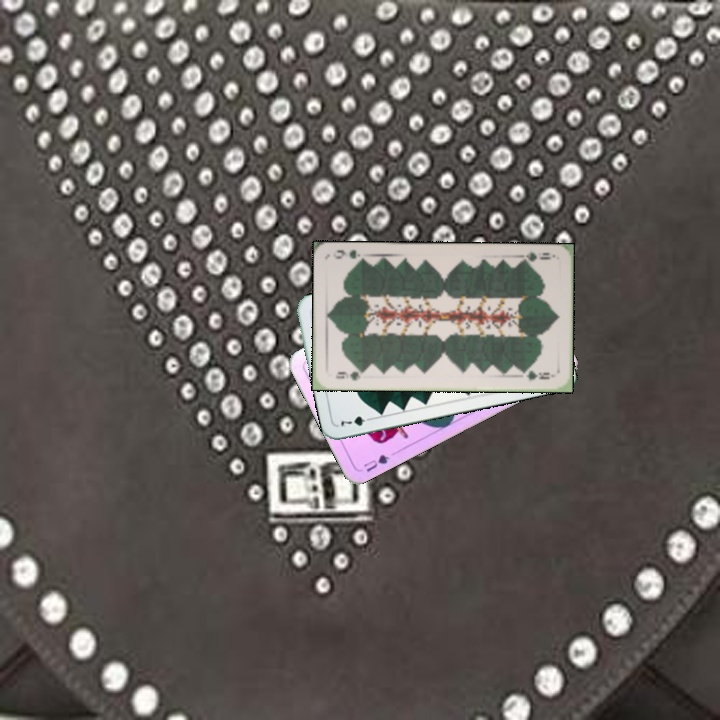G7: (337, 412, 376, 430)
G9: (517, 248, 557, 266), (332, 366, 368, 383)
GU: (360, 450, 392, 475)
